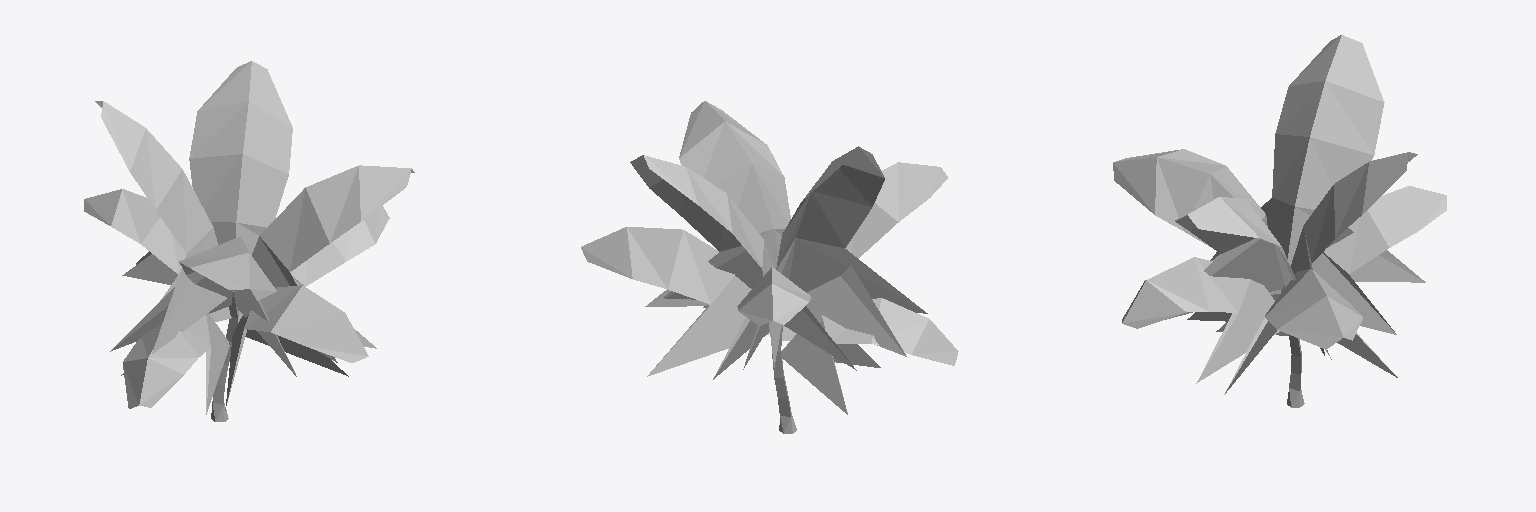
File: banana plant 01_lod4.obj
3 views of the same model, side by side, from view 1: azimuth 30°, elevation 25°; view 2: azimuth 150°, elevation 25°; view 3: azimuth 270°, elevation 25° (orthographic).
Parts seen in each view (by area): view 1: tree; view 2: tree; view 3: tree.
Boxes of the visible parts, x1,y1,x2,y2 form: tree: [84, 61, 414, 421]; tree: [581, 101, 958, 433]; tree: [1113, 35, 1446, 407].
Bounding box in the file's own units: 276 × 272 × 254.